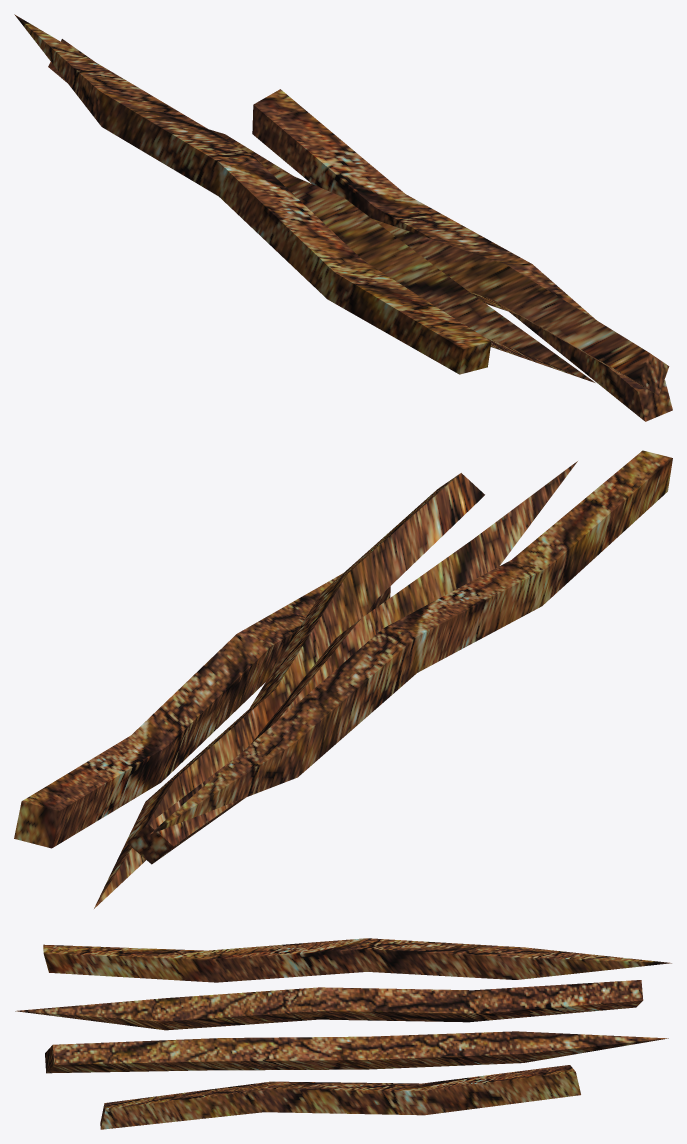
File: Branches.FBX
3 renders of one model, top to bottom at view 1: azimuth 30°, elevation 25°; view 2: azimuth 150°, elevation 25°; view 3: azimuth 270°, elevation 25°, orthographic. The views are drawn at different scales.
Visible parts, largest first — view 1: Object002; view 2: Object002; view 3: Object002.
Boxes of the visible parts, left/top/right/bottom form: Object002: left=14, top=14, right=672, bottom=421; Object002: left=14, top=450, right=672, bottom=908; Object002: left=15, top=938, right=671, bottom=1129.
Bounding box in the file's own units: 927 × 575 × 3065.
Materials: 1 (1 with a texture image).
